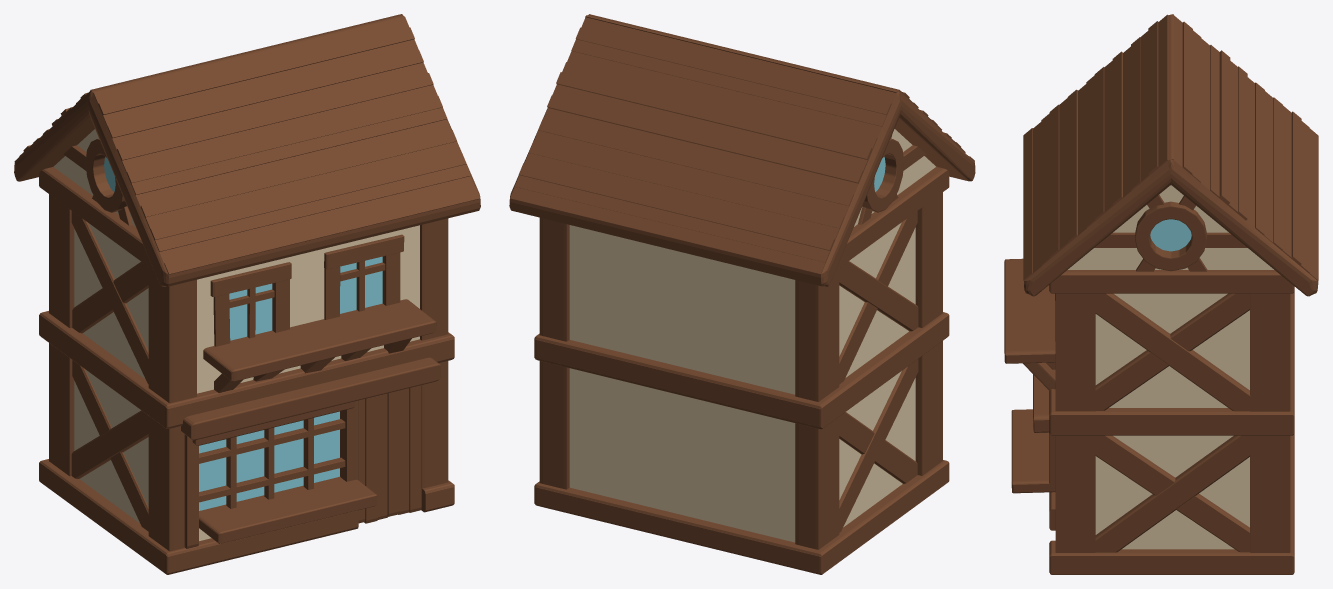
The model's file is house1.fbx.
3 renders of one model, left to right at view 1: azimuth 30°, elevation 25°; view 2: azimuth 150°, elevation 25°; view 3: azimuth 270°, elevation 25°, orthographic. The views are drawn at different scales.
Parts seen in each view (by area): view 1: Cube.047, wood structure, wall, Cube.001, Cube.036, Cube.025, Plane.001, Plane, Cylinder.001, Cube.029, Cube.032, Cube.035 (+18 smaller); view 2: Cube.047, wall, wood structure, Cylinder.001, Cube.046; view 3: wood structure, Cube.047, wall, Cylinder.002, Cube.001, Cube.046, Cube.025, Plane.002, Cube.036, Cube.016.
Part boxes in pixels (<box>): Cube.047: <box>14,14,480,286</box>; wood structure: <box>39,167,454,574</box>; wall: <box>74,223,419,540</box>; Cube.001: <box>203,299,436,381</box>; Cube.036: <box>181,357,440,440</box>; Cube.025: <box>199,476,377,543</box>; Plane.001: <box>199,411,339,510</box>; Plane: <box>229,256,382,340</box>; Cylinder.001: <box>76,138,132,225</box>; Cube.029: <box>387,390,400,516</box>; Cube.032: <box>409,385,421,512</box>; Cube.035: <box>184,434,198,548</box>; Cube.047: <box>509,14,975,286</box>; wall: <box>569,222,915,542</box>; wood structure: <box>534,167,949,574</box>; Cylinder.001: <box>858,134,913,224</box>; Cube.046: <box>854,129,935,226</box>; wood structure: <box>1049,270,1294,574</box>; Cube.047: <box>1023,14,1318,296</box>; wall: <box>1095,293,1249,549</box>; Cylinder.002: <box>1094,195,1247,271</box>; Cube.001: <box>1004,258,1055,363</box>; Cube.046: <box>1068,185,1273,269</box>; Cube.025: <box>1011,409,1055,493</box>; Plane.002: <box>1150,219,1191,251</box>; Cube.036: <box>1033,374,1049,432</box>; Cube.016: <box>1023,362,1055,390</box>.
Size of the model in its own units: 2714 by 3608 by 2433.
